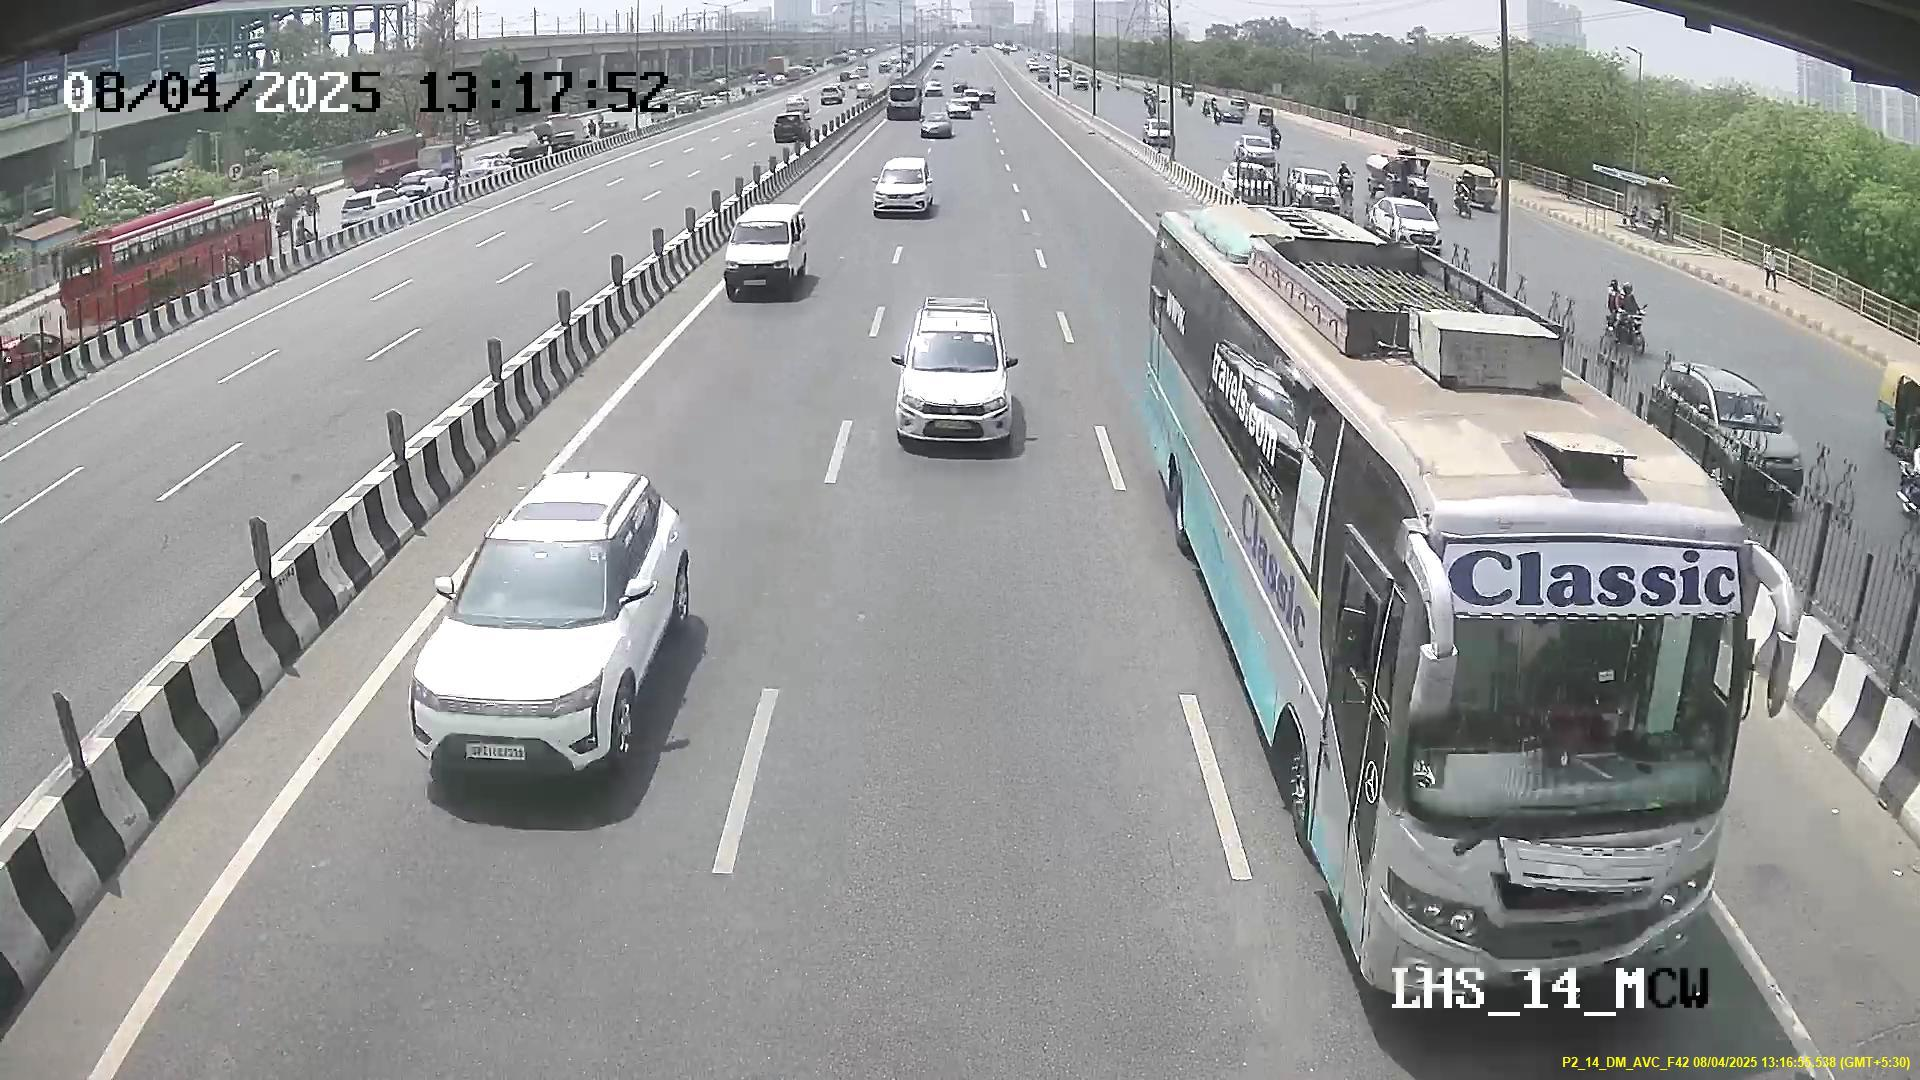bus: (1329, 450, 1800, 977)
car: (401, 522, 658, 794), (889, 318, 1017, 450), (719, 206, 810, 298), (873, 161, 938, 223)
